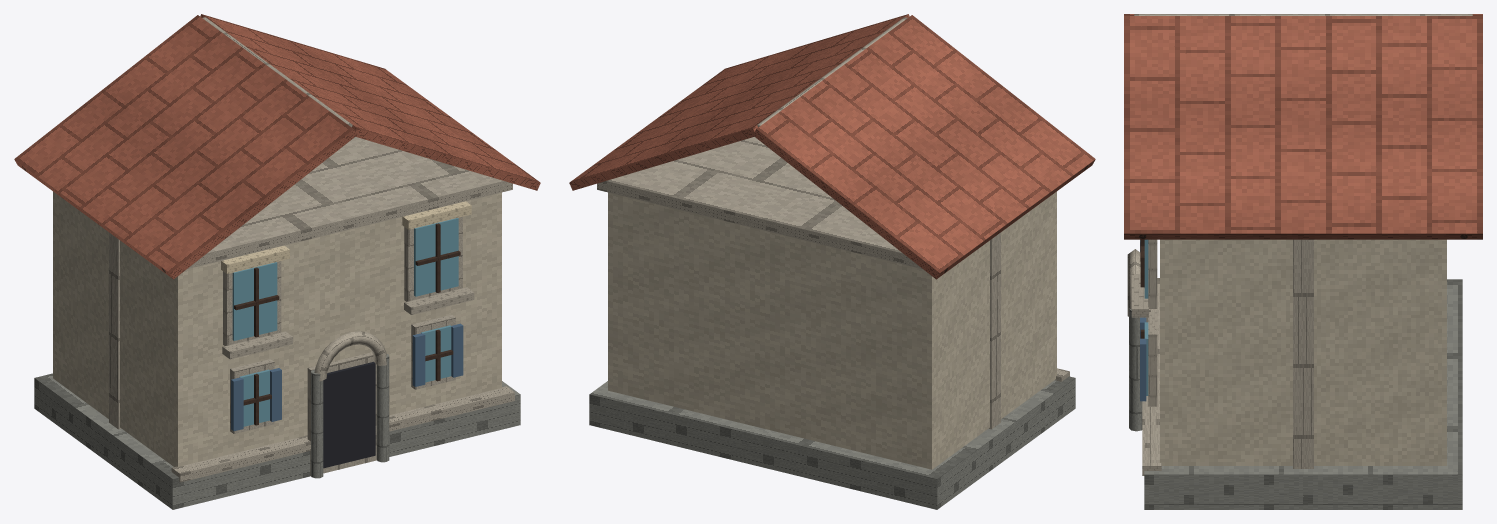
File: procedural_master_workshop@4.glb
3 renders of one model, left to right at view 1: azimuth 30°, elevation 25°; view 2: azimuth 150°, elevation 25°; view 3: azimuth 270°, elevation 25°, orthographic. The views are drawn at different scales.
Parts seen in each view (by area): view 1: part_8, part_1, part_2, part_0, part_3, part_7, part_5, part_4, part_6; view 2: part_1, part_8, part_0, part_2; view 3: part_8, part_1, part_0, part_2, part_3, part_5.
Part boxes in pixels (bbox=[...]): part_8: bbox=[14, 14, 540, 279]; part_1: bbox=[53, 191, 501, 466]; part_2: bbox=[109, 17, 514, 482]; part_0: bbox=[34, 354, 520, 509]; part_3: bbox=[232, 218, 458, 426]; part_7: bbox=[323, 361, 375, 468]; part_5: bbox=[231, 323, 463, 431]; part_4: bbox=[22, 166, 460, 425]; part_6: bbox=[221, 201, 471, 273]; part_1: bbox=[608, 191, 1056, 469]; part_8: bbox=[569, 14, 1095, 279]; part_0: bbox=[589, 376, 1075, 509]; part_2: bbox=[597, 17, 1069, 429]; part_8: bbox=[1124, 14, 1482, 239]; part_1: bbox=[1160, 239, 1446, 465]; part_0: bbox=[1129, 279, 1462, 509]; part_2: bbox=[1127, 14, 1472, 475]; part_3: bbox=[1144, 239, 1148, 395]; part_5: bbox=[1140, 240, 1146, 401].
Size of the model in its own units: 8.58 by 7.64 by 6.25.
Materials: 9 (6 with a texture image).
